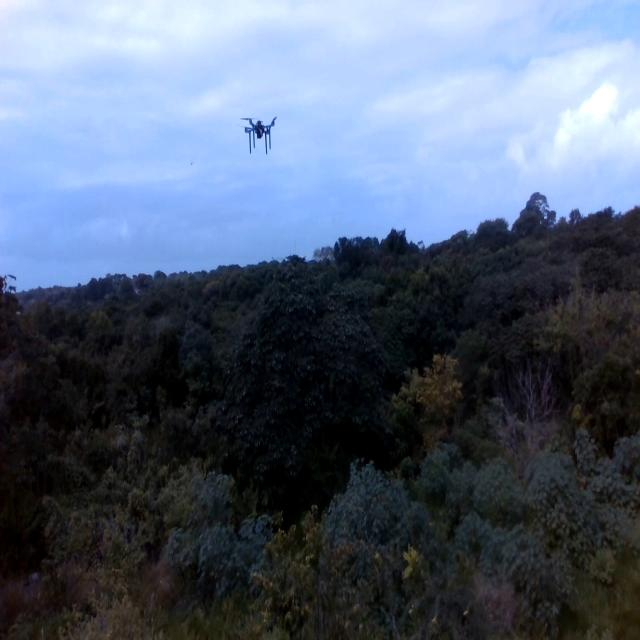-uav-: (234, 107, 281, 166)
